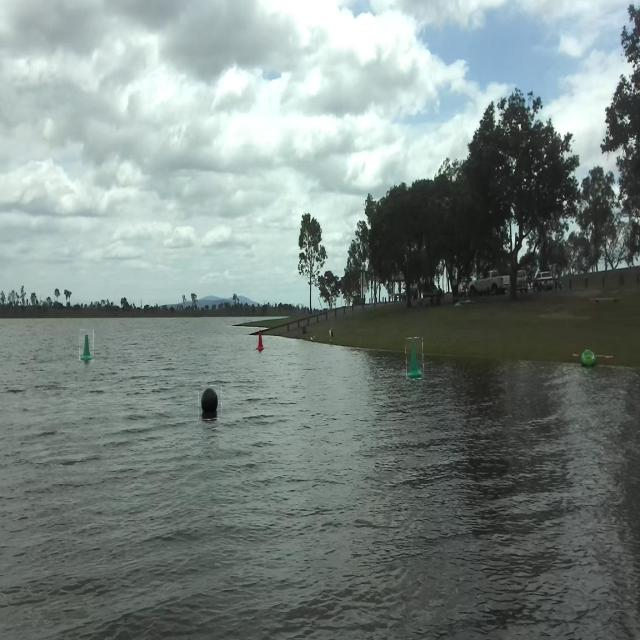Black_Buoy: (200, 376, 221, 428)
Green_Buoy: (403, 334, 428, 386), (81, 326, 102, 387)
Red_Buoy: (257, 324, 265, 359)
